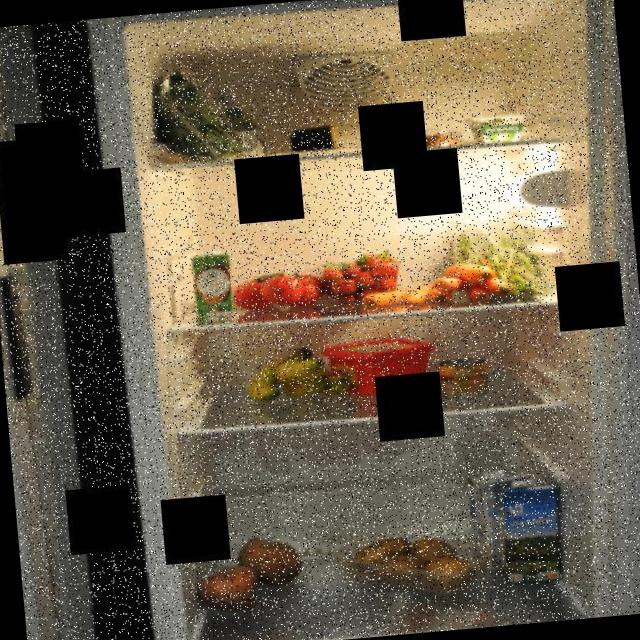Gambas/Langostinos: (372, 131, 462, 156)
Leche: (494, 474, 568, 586), (463, 465, 538, 571)
Mantequilla: (317, 330, 439, 400)
Patata: (342, 525, 480, 601)
Plátano: (240, 341, 352, 404)
Queso: (460, 110, 534, 146), (284, 118, 346, 156)
Tomate: (230, 263, 330, 316)
Zanahoria: (426, 255, 517, 308), (359, 284, 434, 312)
corn: (436, 355, 490, 401)
green_beans: (444, 208, 554, 306)
heavy_cream: (188, 248, 236, 324)
spinach: (136, 48, 270, 170)
strawberries: (322, 249, 410, 310)
sweet_potato: (192, 531, 308, 620)
